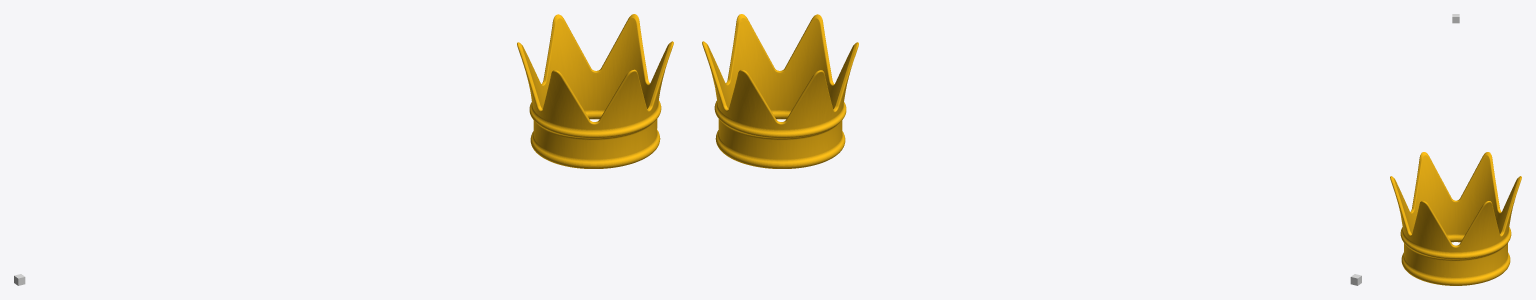
File: crown-web.glb
3 views of the same model, side by side, from view 1: azimuth 30°, elevation 25°; view 2: azimuth 150°, elevation 25°; view 3: azimuth 270°, elevation 25° (orthographic). The views are drawn at different scales.
Parts seen in each view (by area): view 1: Crown; view 2: Crown; view 3: Crown.
Boxes of the visible parts, x1,y1,x2,y2 form: Crown: (517, 14, 673, 168); Crown: (702, 14, 858, 168); Crown: (1390, 152, 1521, 285).
Bounding box in the file's own units: 181 × 27.33 × 37.57.
